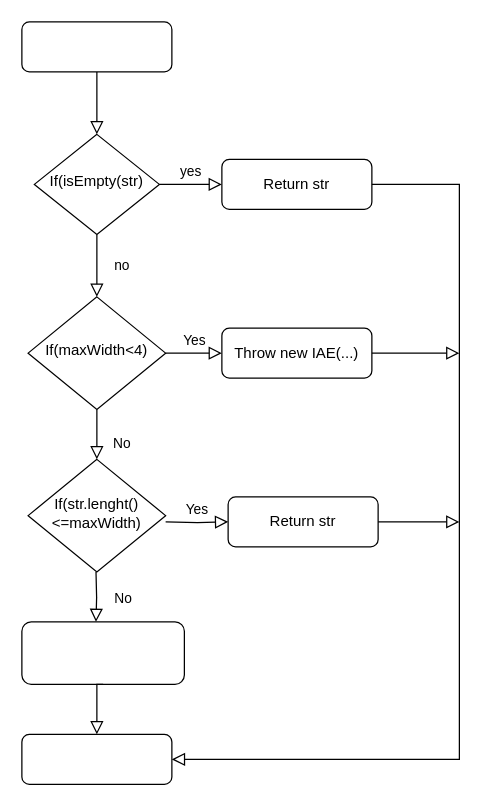
The diagram is 494 pixels wide and 806 high, and some of its shapes have lost their labels. The shapes that lost their labels are listed below. From the top down, each one's centre as x and y in pixels, then its label:
pixel 96 46: Start
pixel 102 652: Return str..subString(0, maxWidth-3) + "..."
pixel 96 758: End
